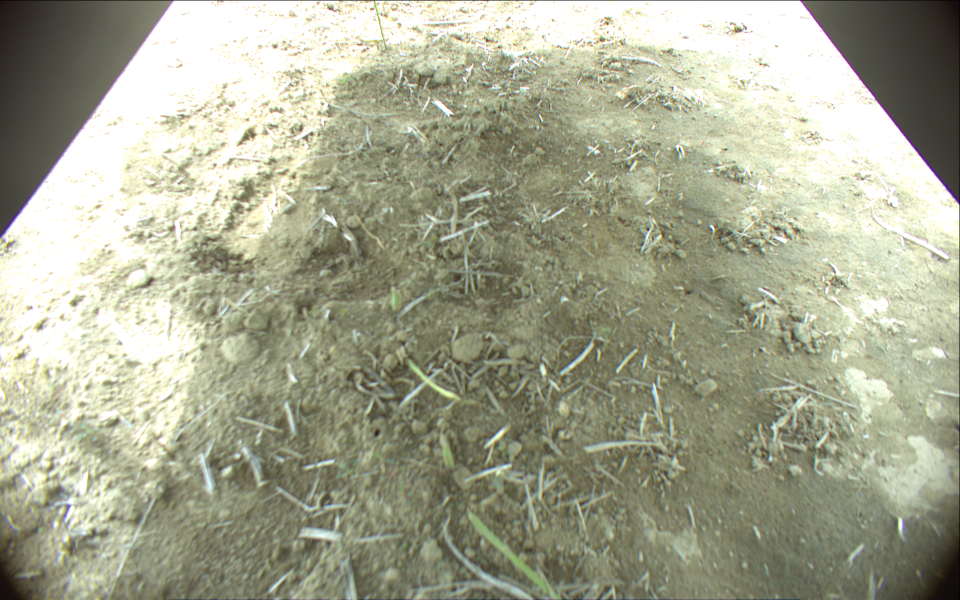aspa: (468, 510, 562, 600), (375, 1, 389, 47)
